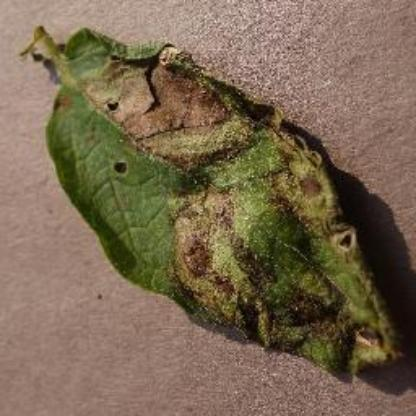Late-Blight: (21, 16, 409, 384)
